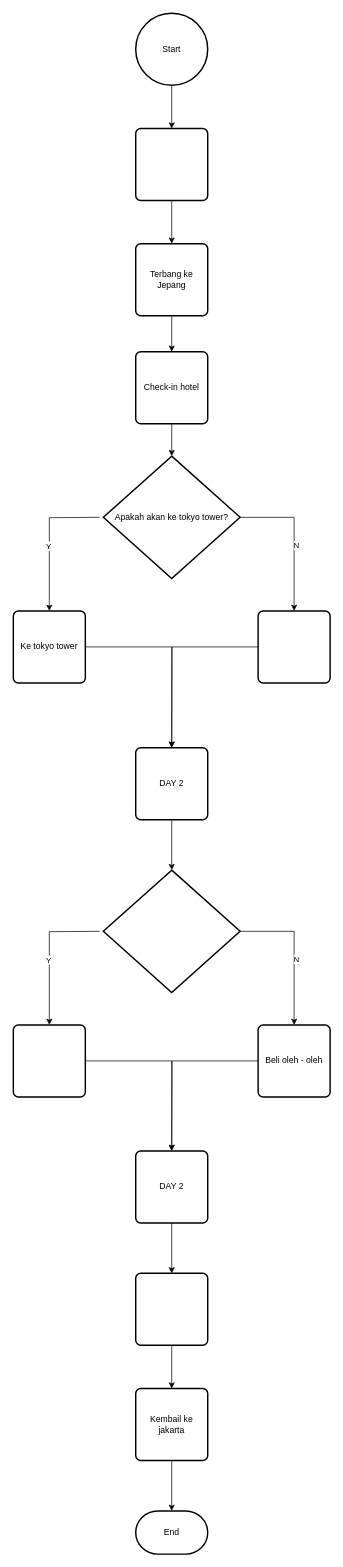
Some shapes in this 343 by 1567 pixel diagram are drawn without their labels. Each missing label, with the centre of its shape:
Apakah akan ke gunung fuji?: (171,931)
Check-out hotel: (171,1309)
DAY 1: (171,164)
Ke gunung fuji: (49,1060)
Ke kuil - kuil lokal: (293,646)
